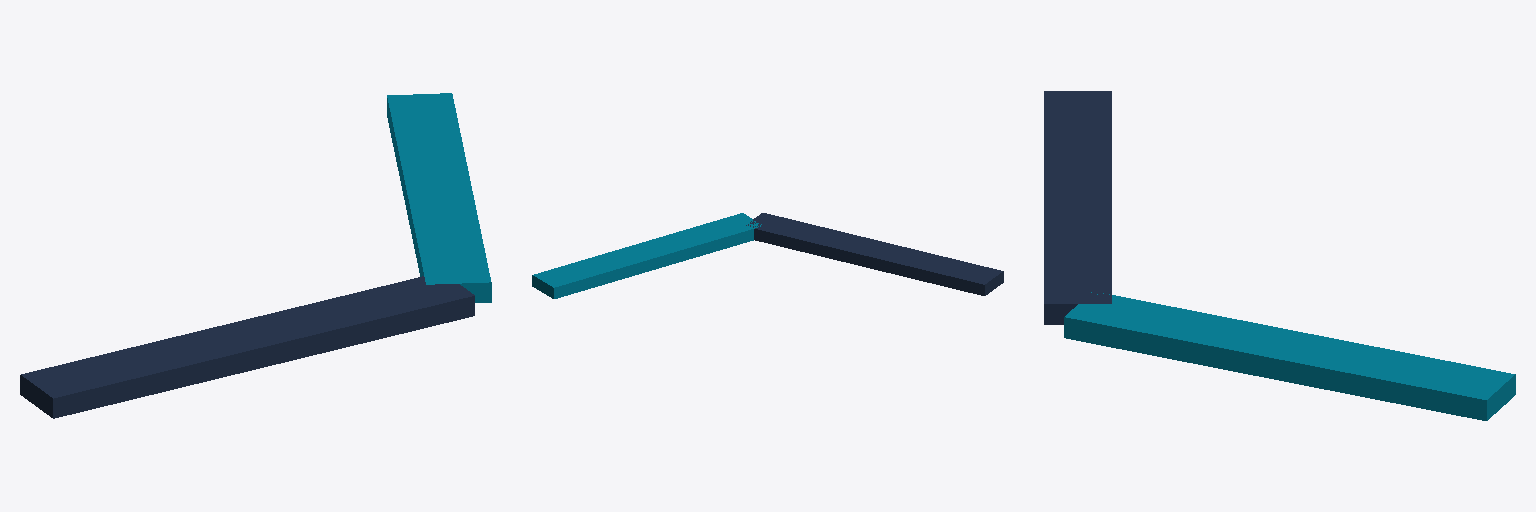
URDF robot description (open-elbow-exoskeleton):
<?xml version='1.0' encoding='utf-8'?>
<robot name="open-elbow-exoskeleton">
  <link name="world" />
  <link name="upper_arm">
    <inertial>
      <origin xyz="-0.13 0 0" rpy="0 0 0" />
      <mass value="0.65" />
      <inertia ixx="0.0003" ixy="0" ixz="0" iyy="0.0036616666666666672" iyz="0" izz="0.0036616666666666672" />
    </inertial>
    <visual>
      <origin xyz="-0.13 0 0" rpy="0 0 0" />
      <geometry>
        <box size="0.26 0.035 0.012" />
      </geometry>
      <material name="upper_arm_color">
        <color rgba="0.18 0.24 0.34 1" />
      </material>
    </visual>
    <collision>
      <origin xyz="-0.13 0 0" rpy="0 0 0" />
      <geometry>
        <box size="0.26 0.035 0.012" />
      </geometry>
    </collision>
  </link>
  <link name="forearm">
    <inertial>
      <origin xyz="0.12 0 0" rpy="0 0 0" />
      <mass value="0.5" />
      <inertia ixx="0.0003" ixy="0" ixz="0" iyy="0.0378" iyz="0" izz="0.0378" />
    </inertial>
    <visual>
      <origin xyz="0.12 0 0" rpy="0 0 0" />
      <geometry>
        <box size="0.24 0.035 0.012" />
      </geometry>
      <material name="forearm_color">
        <color rgba="0.05 0.55 0.65 1" />
      </material>
    </visual>
    <collision>
      <origin xyz="0.12 0 0" rpy="0 0 0" />
      <geometry>
        <box size="0.24 0.035 0.012" />
      </geometry>
    </collision>
  </link>
  <joint name="bench_mount" type="fixed">
    <parent link="world" />
    <child link="upper_arm" />
  </joint>
  <joint name="elbow_flexion" type="revolute">
    <parent link="upper_arm" />
    <child link="forearm" />
    <origin xyz="0 0 0" rpy="0 0 0" />
    <axis xyz="0 0 1" />
    <limit lower="0.17453292519943295" upper="2.0943951023931953" effort="1.0" velocity="1.0" />
    <dynamics damping="0.15" friction="0" />
  </joint>
  <transmission name="gearbox_and_belt">
    <type>transmission_interface/SimpleTransmission</type>
    <joint name="elbow_flexion">
      <hardwareInterface>hardware_interface/EffortJointInterface</hardwareInterface>
    </joint>
    <actuator name="brushed_motor">
      <mechanicalReduction>90.0</mechanicalReduction>
    </actuator>
  </transmission>
</robot>

--- Facts derived from the render (not from the file) ---
3 views of the same robot in one strip: view 1: azimuth 30°, elevation 25°; view 2: azimuth 150°, elevation 25°; view 3: azimuth 270°, elevation 25° (orthographic).
Robot: open-elbow-exoskeleton — 3 links, 2 joints (1 revolute, 1 fixed); root link world; default pose: joints at zero except 1 at the middle of their limits (elbow_flexion = 1.13).
Visible links, largest first — view 1: upper_arm, forearm; view 2: upper_arm, forearm; view 3: forearm, upper_arm.
Boxes of the visible links, x1=… form: upper_arm: x1=20, y1=276, x2=474, y2=418; forearm: x1=387, y1=93, x2=491, y2=302; upper_arm: x1=746, y1=213, x2=1003, y2=295; forearm: x1=532, y1=213, x2=761, y2=298; forearm: x1=1064, y1=292, x2=1515, y2=420; upper_arm: x1=1044, y1=91, x2=1111, y2=324.
Size in the robot's own frame: 0.3773 by 0.2424 by 0.012 metres.
Geometry: primitives only (box / cylinder / sphere), no mesh files.
